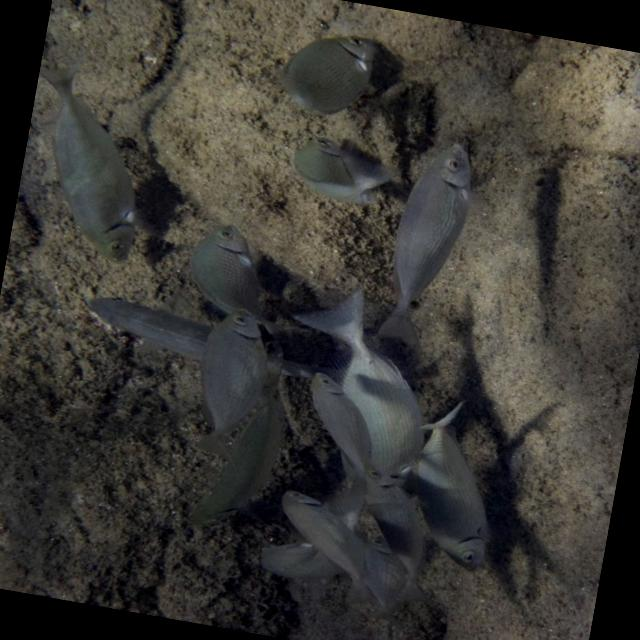Sokar Baligi: (8, 39, 178, 270), (360, 126, 496, 358), (266, 20, 388, 136)
